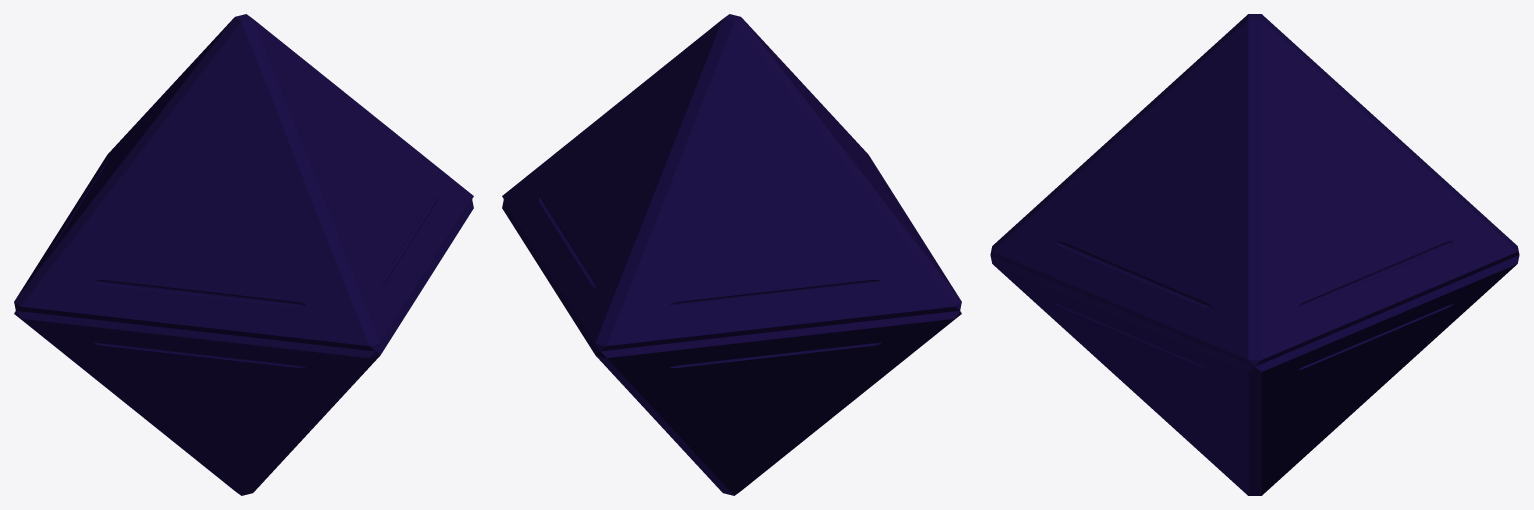
The model's file is BaseEnemy.fbx.
3 views of the same model, side by side, from view 1: azimuth 30°, elevation 25°; view 2: azimuth 150°, elevation 25°; view 3: azimuth 270°, elevation 25° (orthographic).
Parts seen in each view (by area): view 1: BaseTopFrontLeft, BaseBotFrontLeft, BaseTopFrontRight, BaseTopRearLeft, BaseBotFrontRight; view 2: BaseTopRearLeft, BaseBotRearLeft, BaseTopRearRight, BaseTopFrontLeft, BaseBotRearRight; view 3: BaseTopFrontRight, BaseTopRearRight, BaseBotRearRight, BaseBotFrontRight, BaseTopRearLeft, BaseTopFrontLeft.
Part boxes in pixels (box(x1,y1,x2,y2)): BaseTopFrontLeft: box(16, 18, 375, 351); BaseBotFrontLeft: box(16, 310, 375, 495); BaseTopFrontRight: box(244, 16, 473, 350); BaseTopRearLeft: box(14, 15, 243, 310); BaseBotFrontRight: box(247, 199, 473, 494); BaseTopRearLeft: box(600, 18, 959, 351); BaseBotRearLeft: box(600, 310, 959, 495); BaseTopRearRight: box(502, 16, 731, 350); BaseTopFrontLeft: box(732, 15, 961, 310); BaseBotRearRight: box(502, 199, 728, 494); BaseTopFrontRight: box(990, 16, 1254, 366); BaseTopRearRight: box(1255, 16, 1519, 366); BaseBotRearRight: box(1255, 255, 1519, 495); BaseBotFrontRight: box(990, 255, 1254, 495); BaseTopRearLeft: box(1255, 14, 1519, 253); BaseTopFrontLeft: box(990, 14, 1254, 253).
Bounding box in the file's own units: 19.16 × 19.16 × 19.03.
